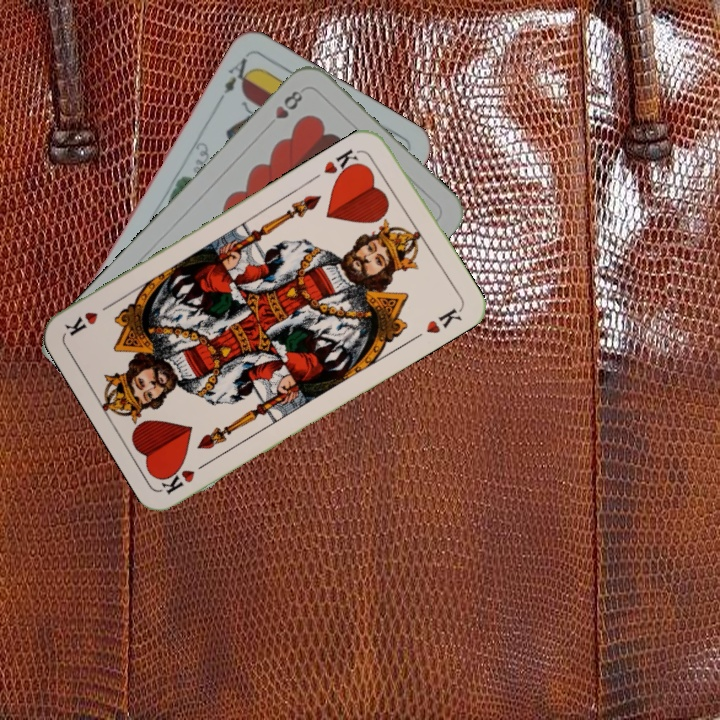EA: (219, 54, 257, 96)
H8: (262, 86, 305, 132)
HK: (157, 456, 214, 498), (319, 145, 365, 183)
